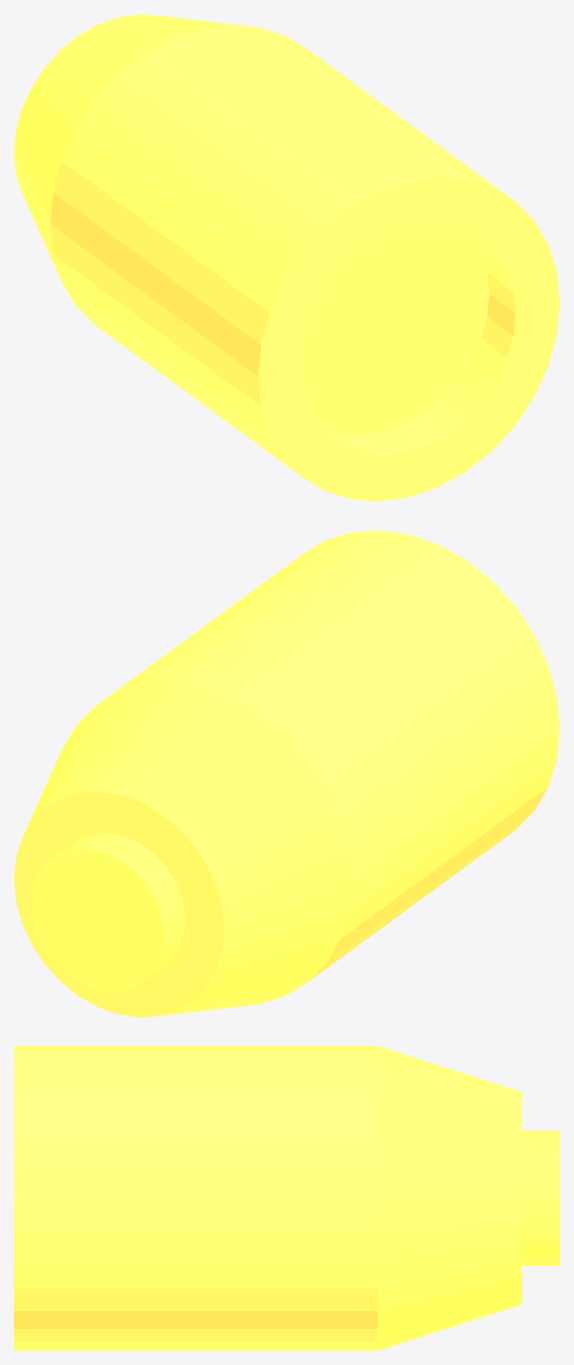
File: LavaBullet 1.fbx
3 renders of one model, top to bottom at view 1: azimuth 30°, elevation 25°; view 2: azimuth 150°, elevation 25°; view 3: azimuth 270°, elevation 25°, orthographic. The views are drawn at different scales.
Parts seen in each view (by area): view 1: Bullet; view 2: Bullet; view 3: Bullet.
Boxes of the visible parts, x1,y1,x2,y2 form: Bullet: (14, 14, 559, 501); Bullet: (14, 530, 559, 1017); Bullet: (14, 1046, 559, 1350).
Bounding box in the file's own units: 0.0563 × 0.1006 × 0.0563.
